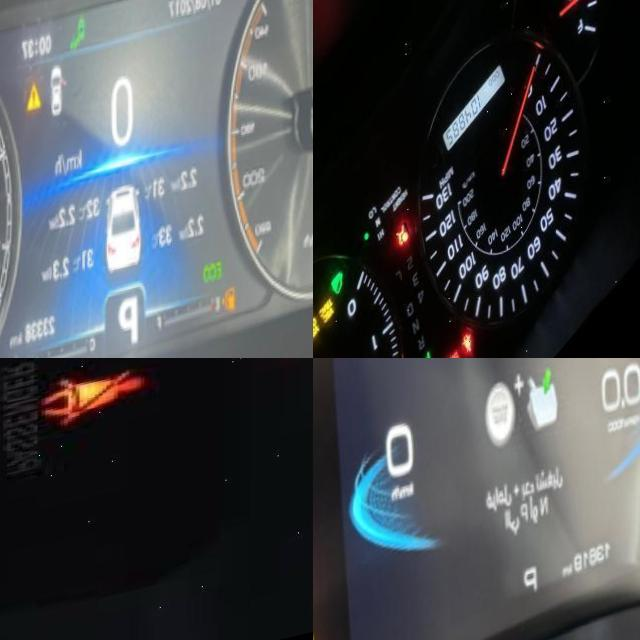Seat Belt: (44, 380, 144, 438)
